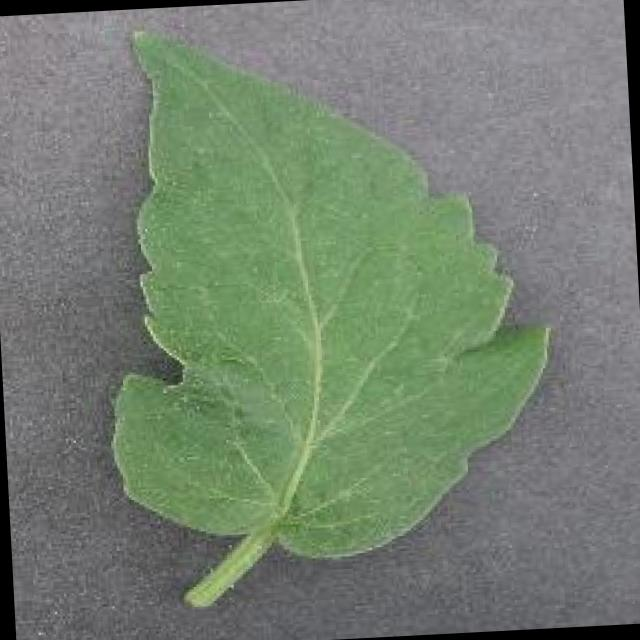Tomato_Healthy: (60, 2, 572, 578)
